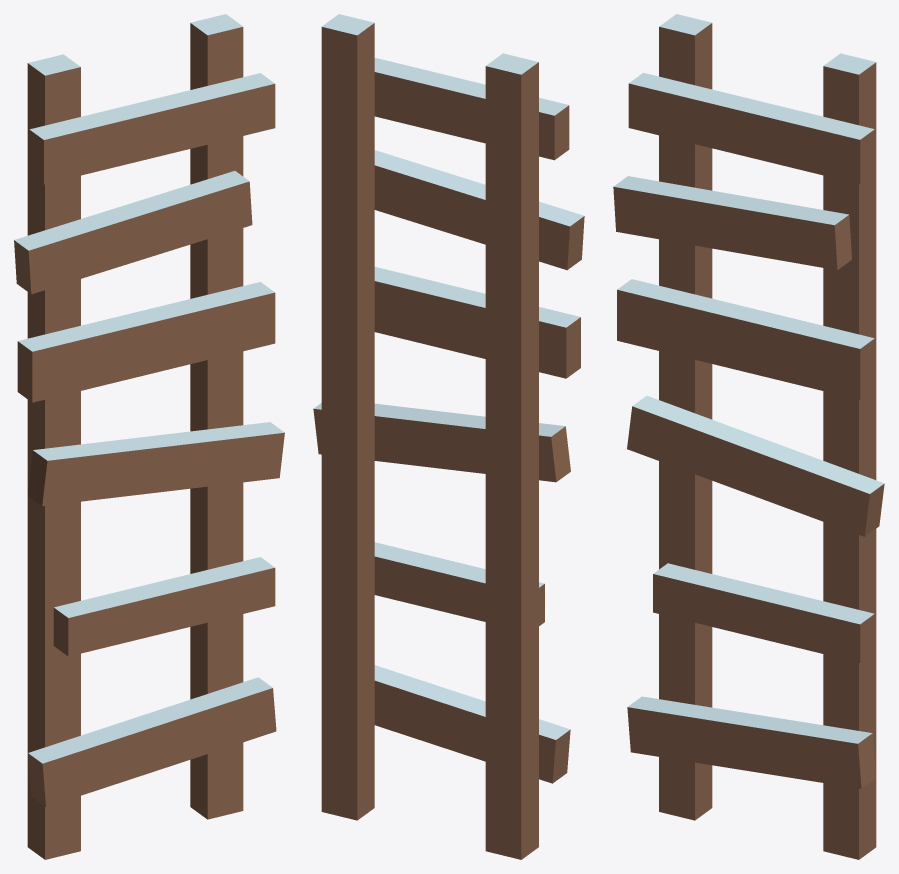
The model's file is SM_Prop_Pirates_Ladder_01_Snow.fbx.
3 views of the same model, side by side, from view 1: azimuth 30°, elevation 25°; view 2: azimuth 150°, elevation 25°; view 3: azimuth 330°, elevation 25° (orthographic).
Parts seen in each view (by area): view 1: SM_Prop_Pirates_Ladder_01_Snow; view 2: SM_Prop_Pirates_Ladder_01_Snow; view 3: SM_Prop_Pirates_Ladder_01_Snow.
Part boxes in pixels (<box>): SM_Prop_Pirates_Ladder_01_Snow: <box>14,14,284,859</box>; SM_Prop_Pirates_Ladder_01_Snow: <box>313,14,584,859</box>; SM_Prop_Pirates_Ladder_01_Snow: <box>613,14,884,859</box>.
Size of the model in its own units: 38.96 by 114 by 8.61.
Materials: 1 (1 with a texture image).
